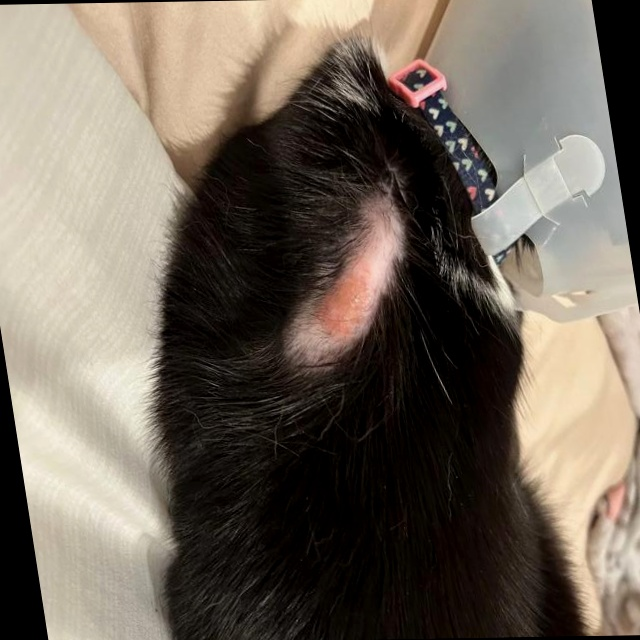hairloss: (270, 195, 431, 354)
